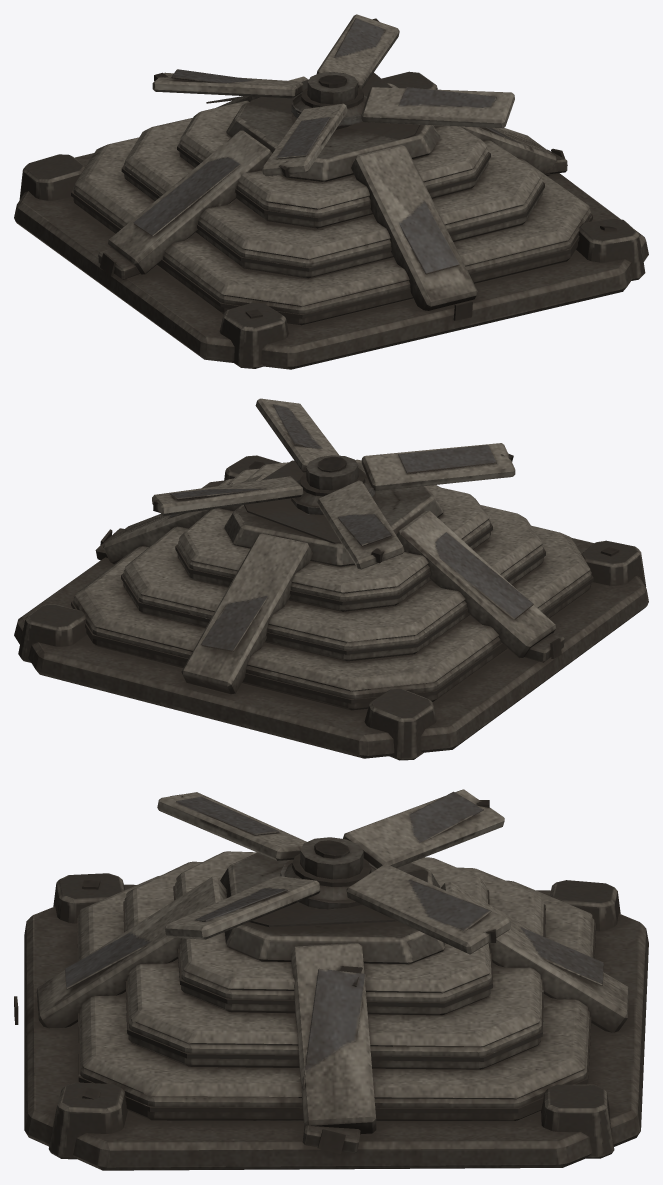
The model's file is ord_seaextractor_wreck.fbx.
The picture shows the model from 3 angles, top to bottom: view 1: azimuth 30°, elevation 25°; view 2: azimuth 150°, elevation 25°; view 3: azimuth 270°, elevation 25°; orthographic projection. The views are drawn at different scales.
Visible parts, largest first — view 1: base_bar, drill_bar; view 2: base_bar, drill_bar; view 3: base_bar, drill_bar.
Part boxes in pixels (<box>): base_bar: <box>14,71,648,369</box>; drill_bar: <box>152,14,514,177</box>; base_bar: <box>14,455,648,760</box>; drill_bar: <box>152,398,515,569</box>; base_bar: <box>14,851,648,1170</box>; drill_bar: <box>157,789,510,954</box>.
Size of the model in its own units: 1598 by 737 by 1597.
2 materials, 2 textured.
